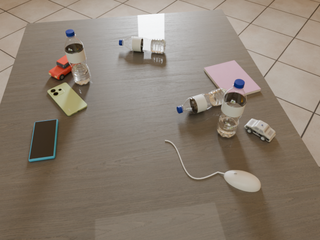book: (204, 60, 261, 95)
bottle: (217, 79, 247, 138), (64, 29, 91, 85), (177, 87, 227, 114), (119, 37, 166, 53)
mouse: (224, 170, 261, 192)
phone: (48, 83, 87, 116), (29, 119, 58, 162)
toy_car: (244, 119, 275, 142), (49, 55, 72, 80)
